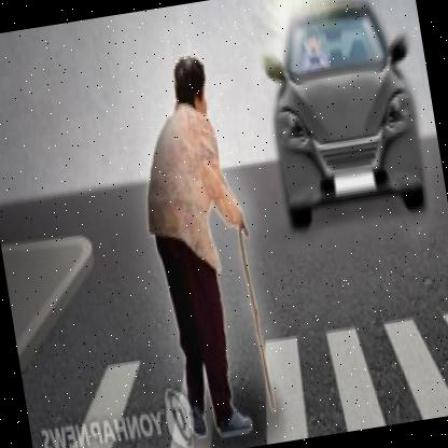silver: (120, 51, 278, 442)
